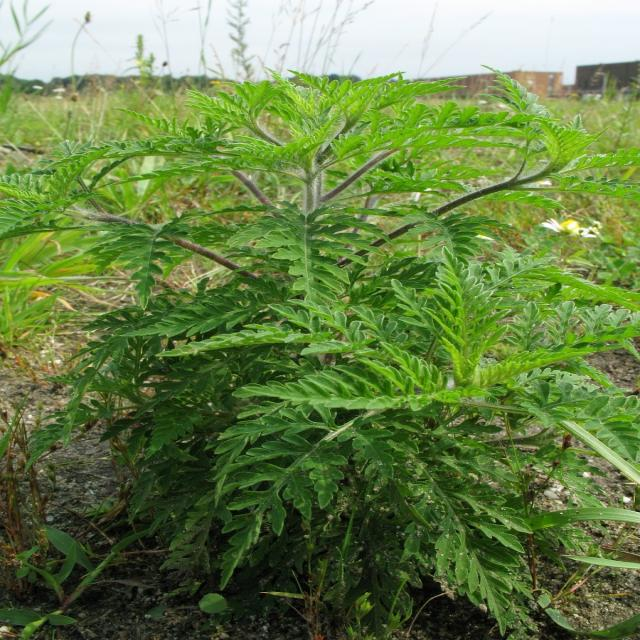ambrosia: (177, 242, 616, 508)
